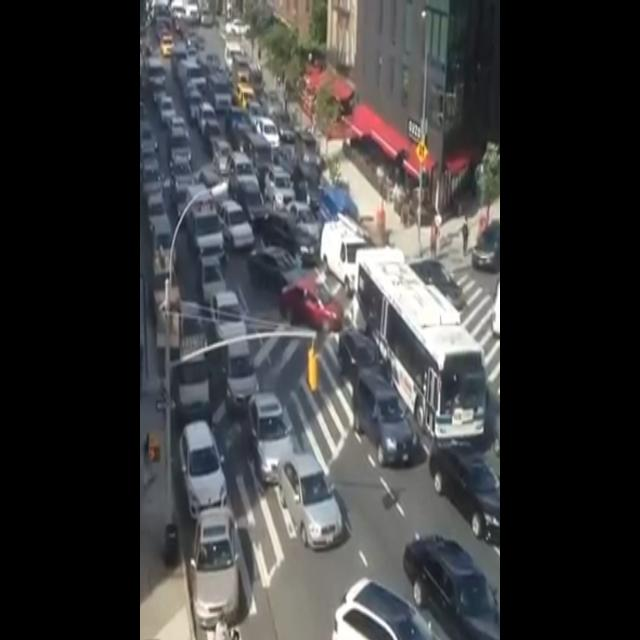Ambulance: (182, 175, 234, 272)
